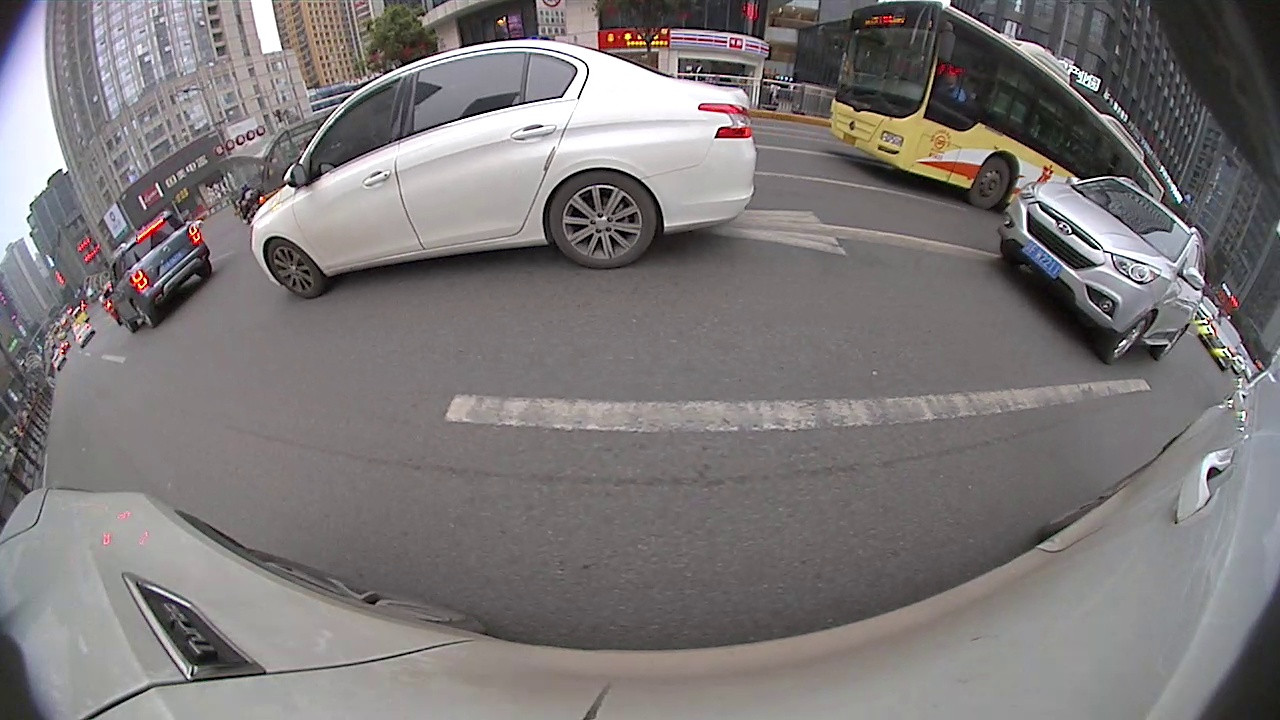bus: (826, 1, 1168, 214)
car: (246, 34, 760, 300), (994, 174, 1209, 366), (103, 206, 216, 333)
front: (263, 236, 327, 300), (1104, 307, 1154, 368), (967, 156, 1010, 211)
rear: (547, 168, 659, 270)
